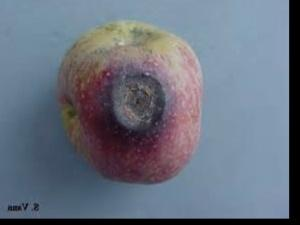rotten apple: (54, 17, 211, 185)
